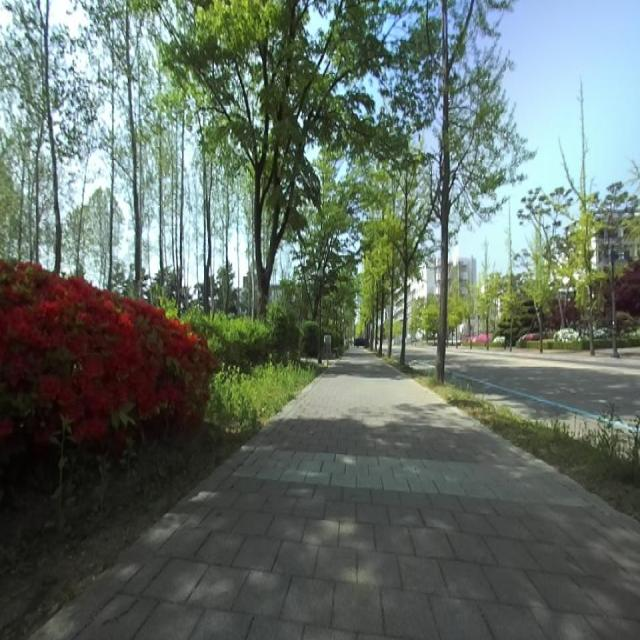sidewalk: (35, 349, 640, 639)
